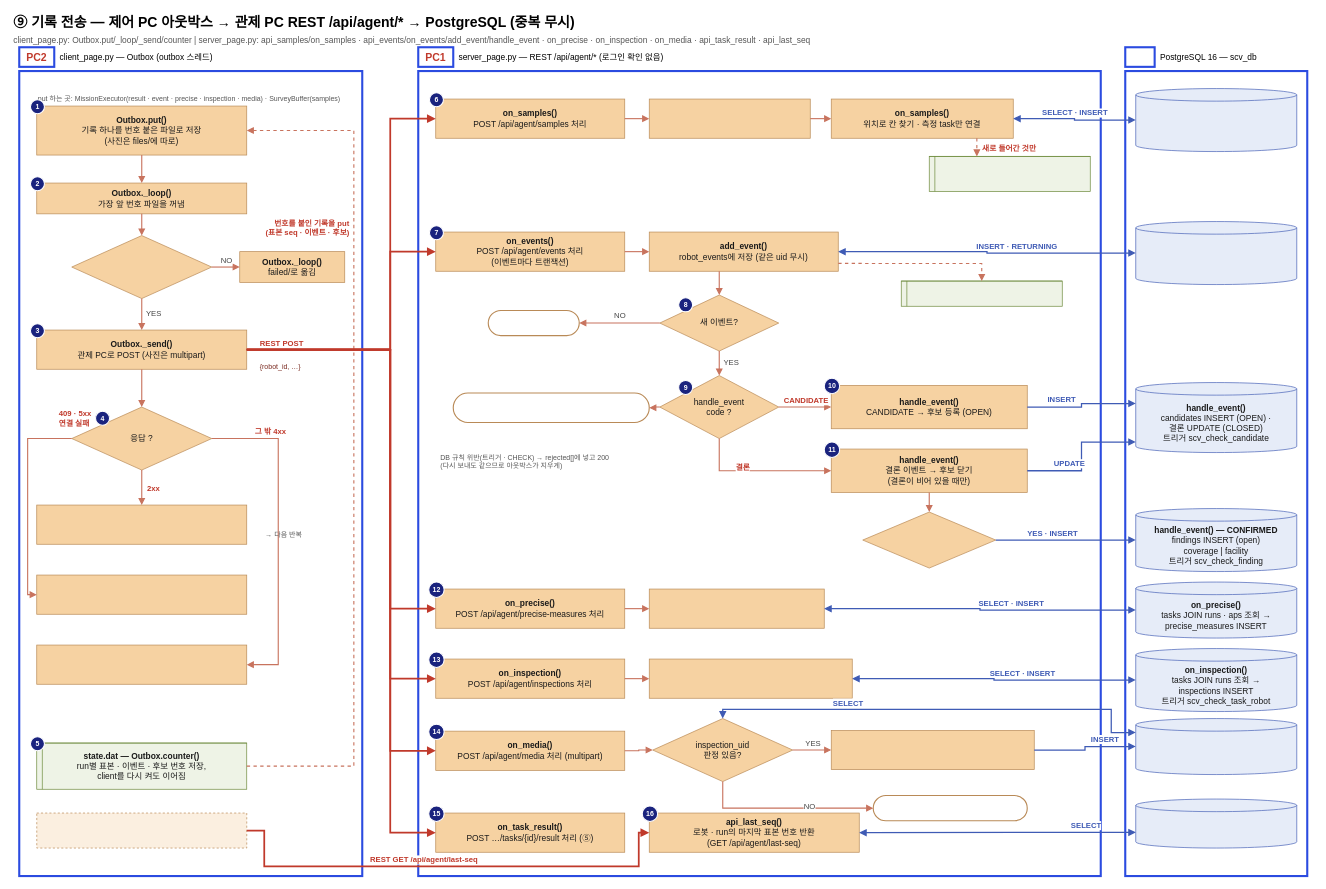
The diagram is 1326 pixels wide and 889 high, and some of its shapes have lost their labels. The shapes that lost their labels are listed below. From the top down, each one's centre as x and y in pixels, then its label:
At (x=1139, y=57): "DB".
At (x=729, y=118): "on_samples() SSID를 AP 번호로 (모르는 SSID 버림)".
At (x=1216, y=120): "on_samples() runs · aps · tasks 조회 → net_samples INSERT (PK 중복 무시)".
At (x=1009, y=173): "LIVE_CELLS run · 칸 · AP별 누적 (히트맵)".
At (x=141, y=267): "파일 읽기 OK?".
At (x=1216, y=253): "add_event() robot_events INSERT ON CONFLICT (event_uid) 무시 → 새 행이면 RETURNING".
At (x=981, y=293): "RECENT_EVENTS 최근 1000개".
At (x=533, y=323): "중복 — 무시".
At (x=550, y=407): "그 밖 코드 — 기록만 (막힘 · 배터리 부족 · 정면 확보 실패 · UNDOCK · DOCK …)".
At (x=141, y=524): "Outbox._loop() 2xx: 파일 · 사진 삭제, 대기 초기화".
At (x=929, y=539): "CONFIRMED ?".
At (x=141, y=594): "Outbox._loop() 409 · 5xx · 연결 실패: 대기 늘려 다시".
At (x=736, y=608): "on_precise() task의 지도에서 SSID → AP 번호".
At (x=141, y=664): "Outbox._loop() 그 밖 4xx: failed/로 옮기고 다음".
At (x=750, y=678): "on_inspection() task에서 run · 지도를 찾아 저장 (트리거가 로봇 · 설비 검사)".
At (x=932, y=750): "on_media() 사진을 날짜 · run별 폴더에 저장".
At (x=1216, y=746): "on_media() inspections 조회 (판정 있음?) → media INSERT (object_key 무시)".
At (x=949, y=808): "409 → 아웃박스가 다시 보냄".
At (x=1216, y=823): "api_last_seq() net_samples max(seq) 조회".
At (x=141, y=830): "SurveyBuffer.configure() (④) run_config 받을 때 번호 확인".
